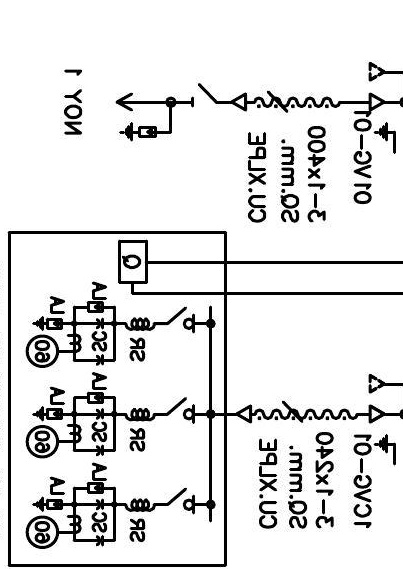22_cap_bank: (7, 230, 228, 568)
22_ds_la_out: (115, 82, 217, 142)
Q: (117, 239, 148, 285)
terminator_single: (235, 403, 253, 424), (230, 92, 248, 112)
